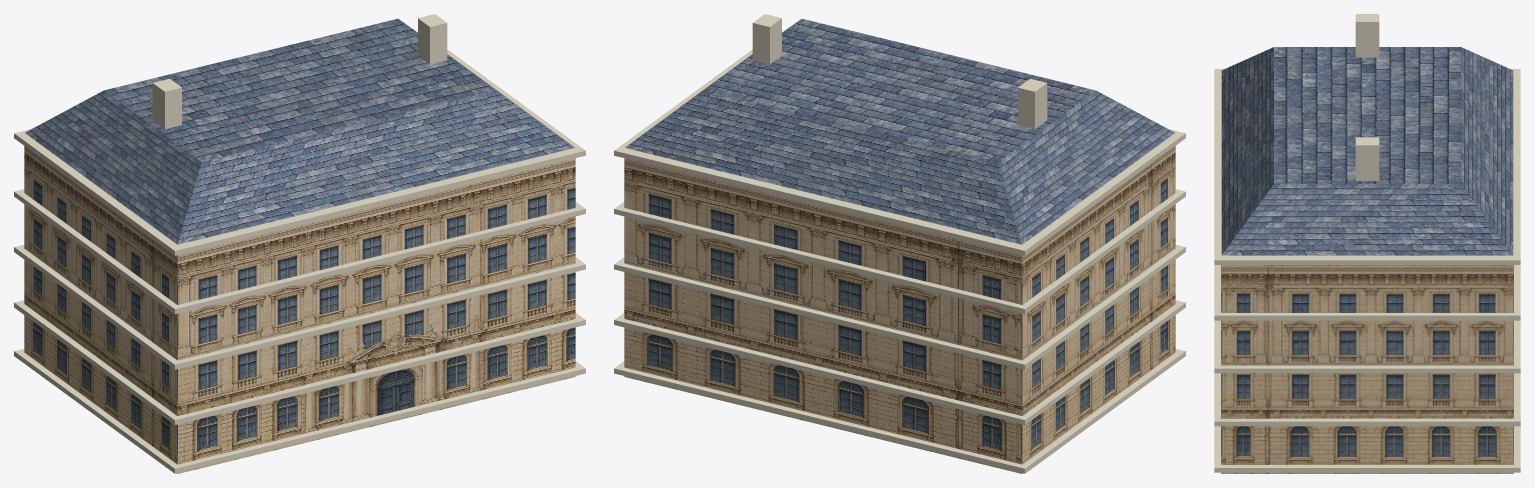
Rendered from heritage-lod2.glb.
3 views of the same model, side by side, from view 1: azimuth 30°, elevation 25°; view 2: azimuth 150°, elevation 25°; view 3: azimuth 270°, elevation 25° (orthographic). The views are drawn at different scales.
Parts seen in each view (by area): view 1: heritage_architecture; view 2: heritage_architecture; view 3: heritage_architecture.
Part boxes in pixels (x1,y1,x2,y2): heritage_architecture: [14, 14, 585, 473]; heritage_architecture: [614, 14, 1185, 473]; heritage_architecture: [1214, 14, 1520, 473].
Bounding box in the file's own units: 15.5 × 11.4 × 10.5.
4 materials, 3 textured.
